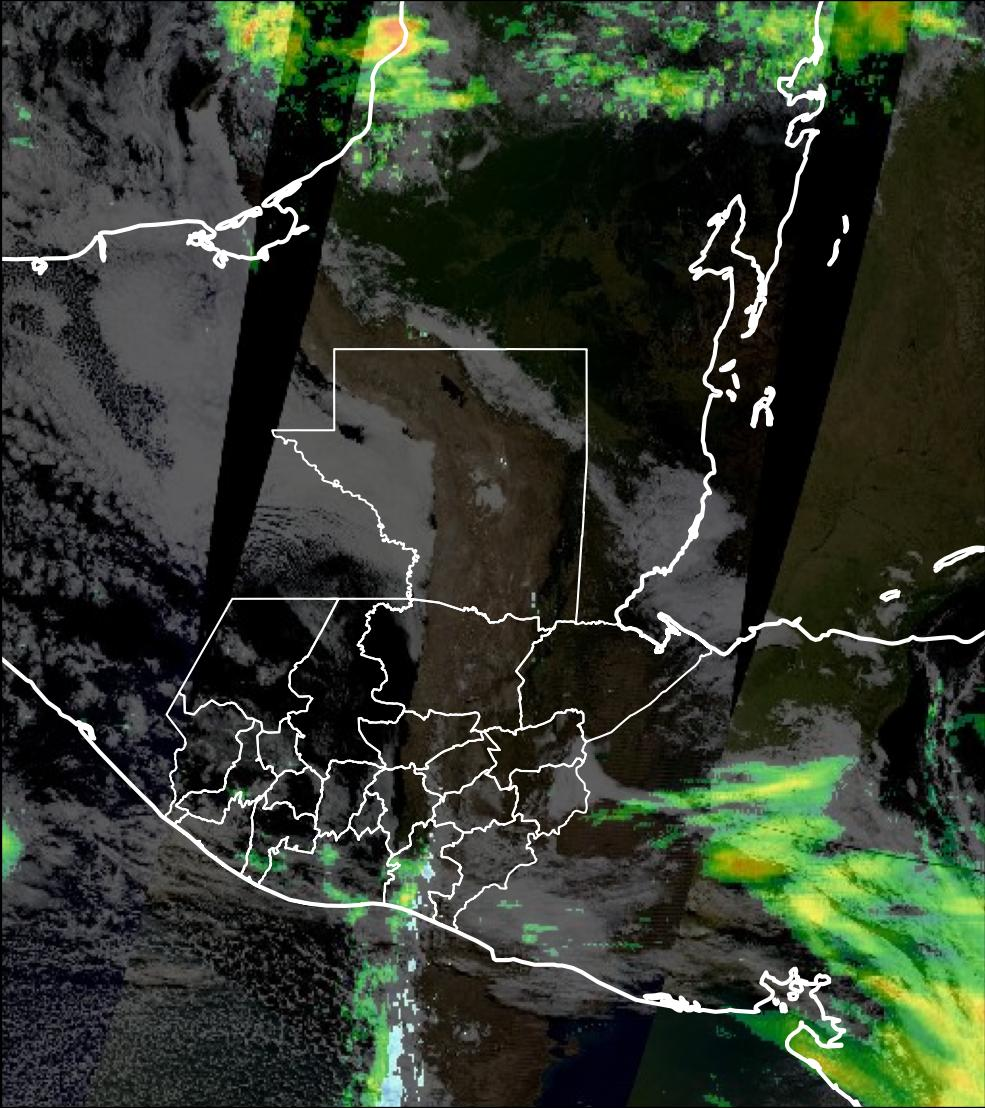precipitacion: (340, 10, 433, 62)
